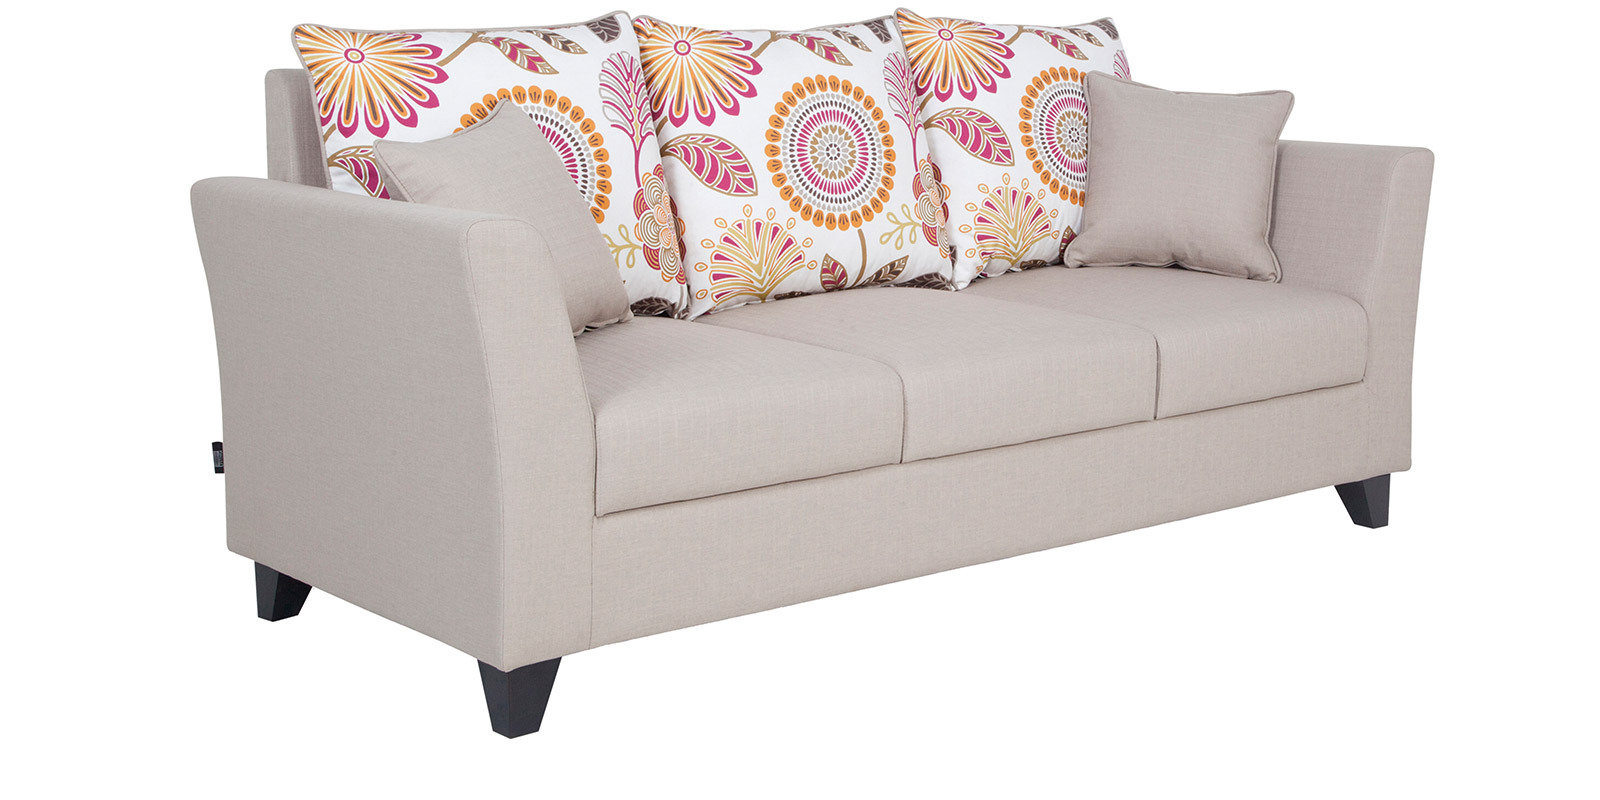Mumbai Glitz Three Seater Sofa in Beige Colour by Urban Living: (189, 6, 1433, 737)
